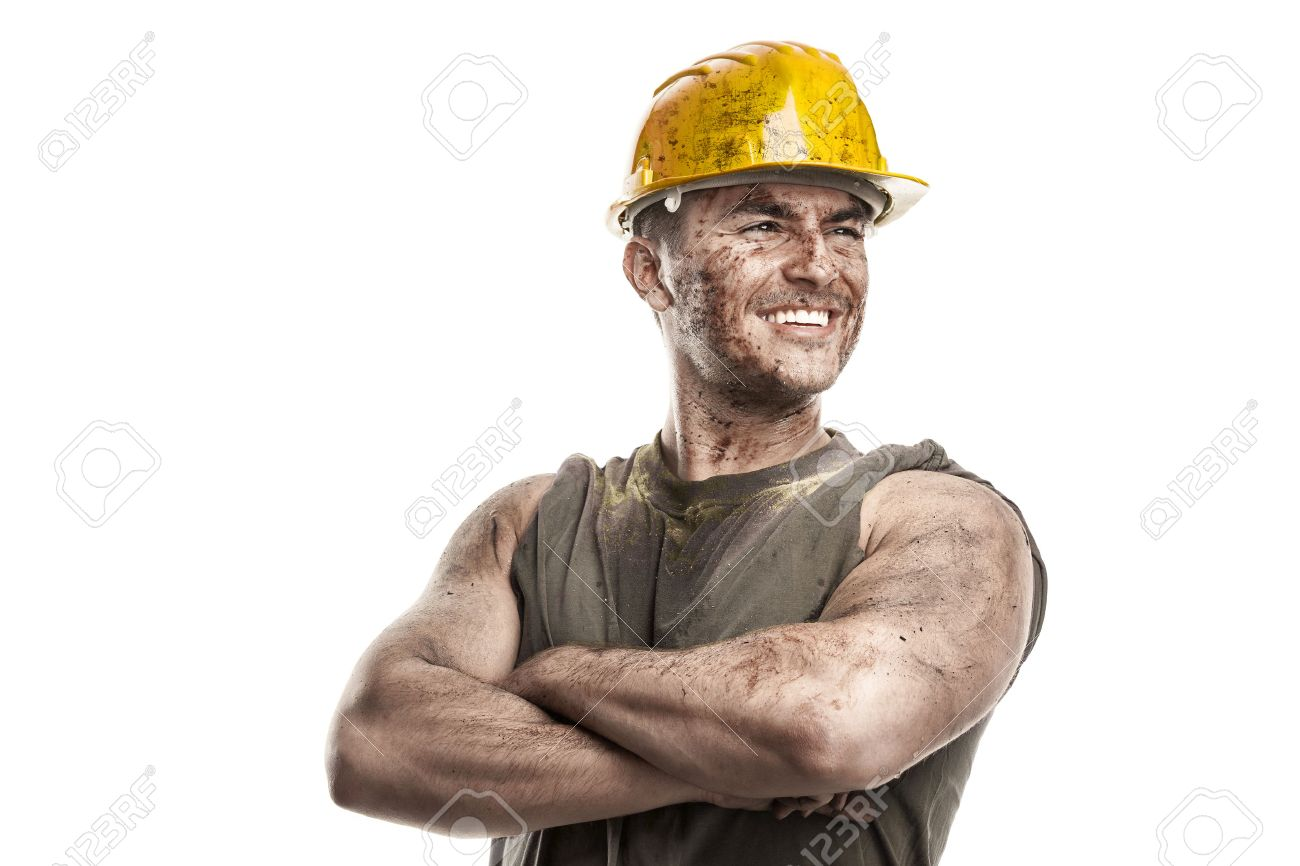Person_wearing_helmet: (581, 27, 932, 268)
